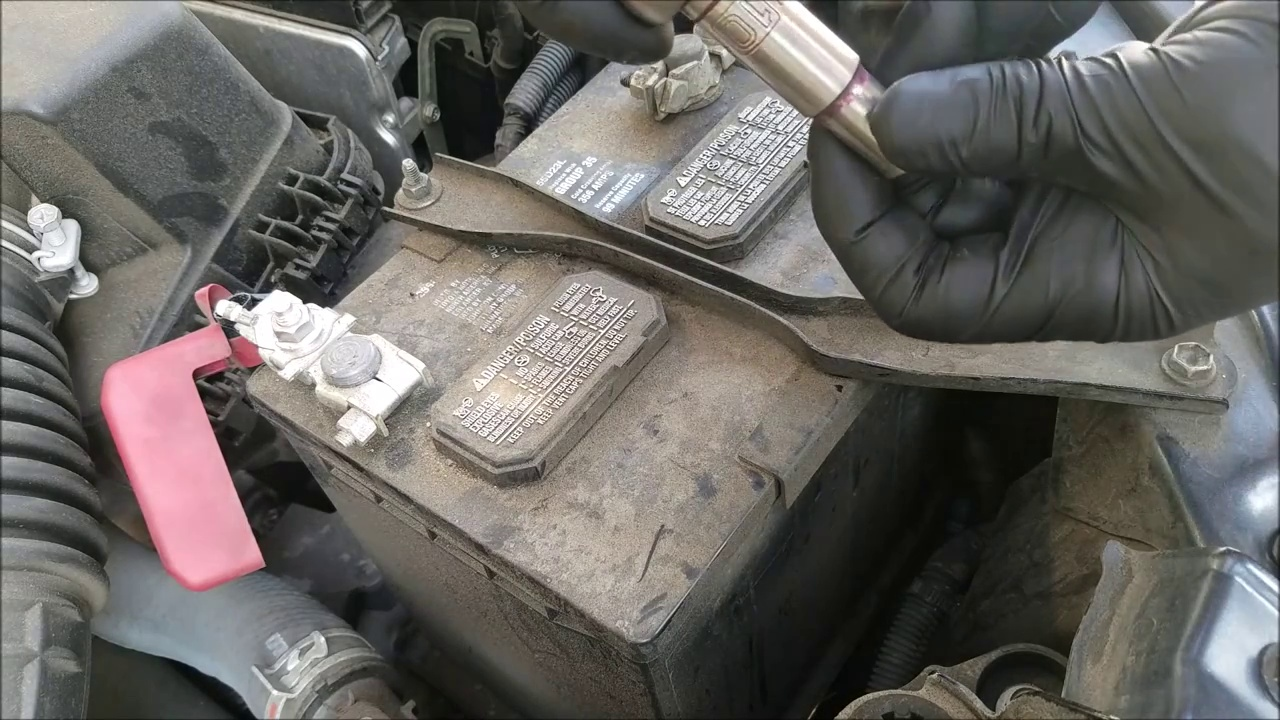battery: (223, 13, 886, 631)
neg_connected: (631, 10, 752, 127)
neg_touched: (522, 1, 896, 147)
pos_connected: (143, 274, 426, 502)
